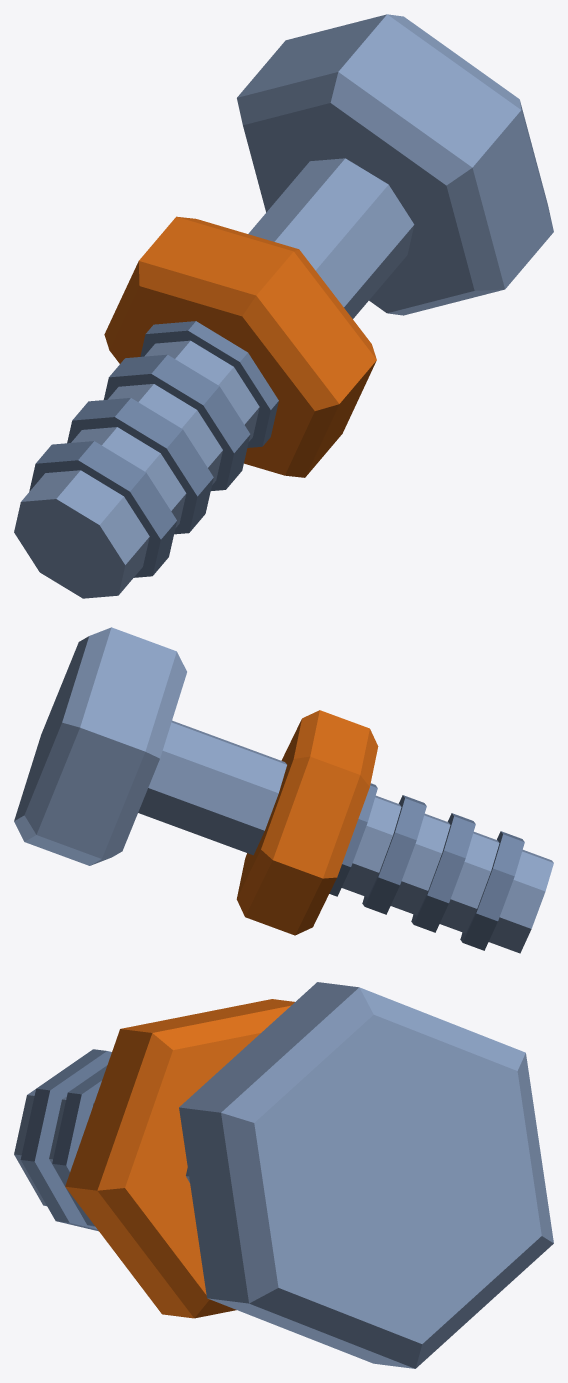
The model's file is bolt.glb.
3 views of the same model, one above another, from view 1: azimuth 30°, elevation 25°; view 2: azimuth 150°, elevation 25°; view 3: azimuth 270°, elevation 25° (orthographic). The views are drawn at different scales.
Visible parts, largest first — view 1: Body; view 2: Body; view 3: Body.
Boxes of the visible parts, x1,y1,x2,y2 form: Body: (14,14,553,598); Body: (14,627,553,953); Body: (14,982,553,1368).
Size of the model in its own units: 0.4518 by 0.2927 by 0.3058.
